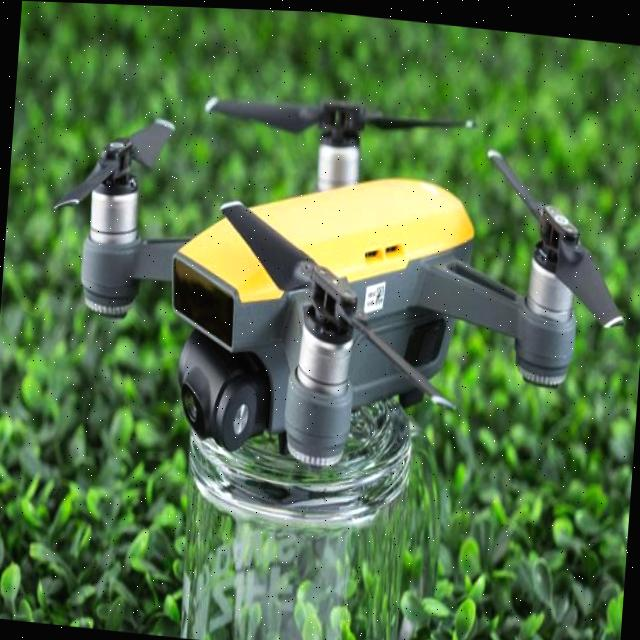drone: (40, 45, 640, 509)
